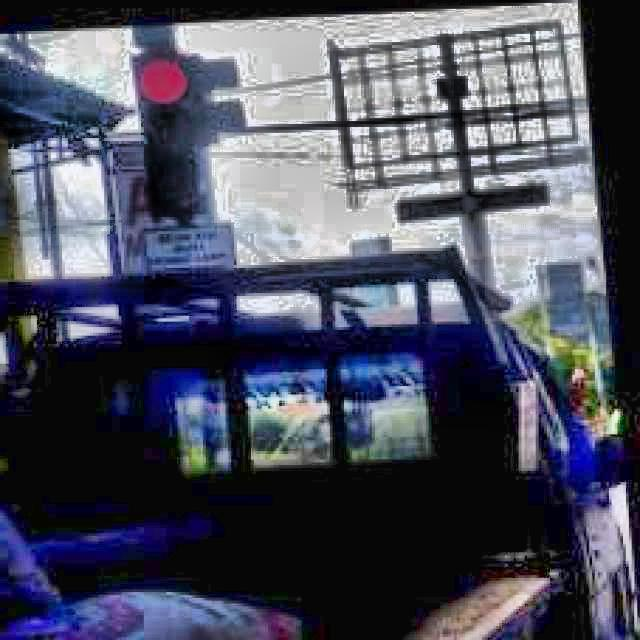red: (140, 41, 216, 213)
